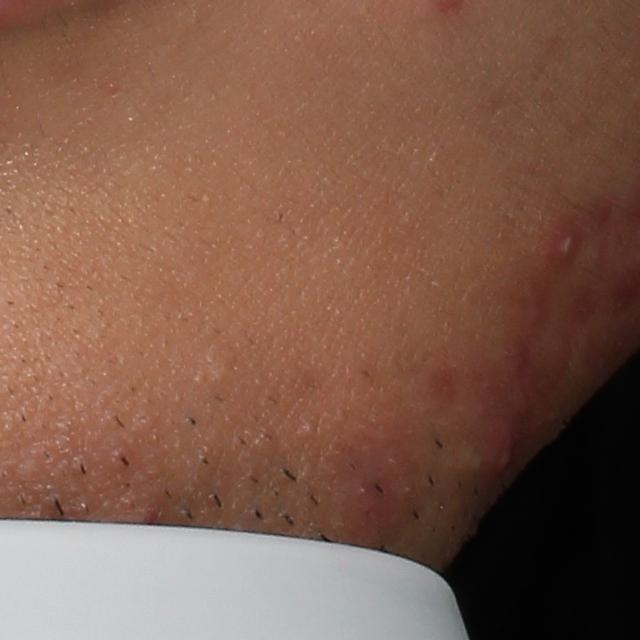comedo: (204, 362, 234, 391)
pustule: (549, 221, 589, 265), (485, 434, 521, 480)
